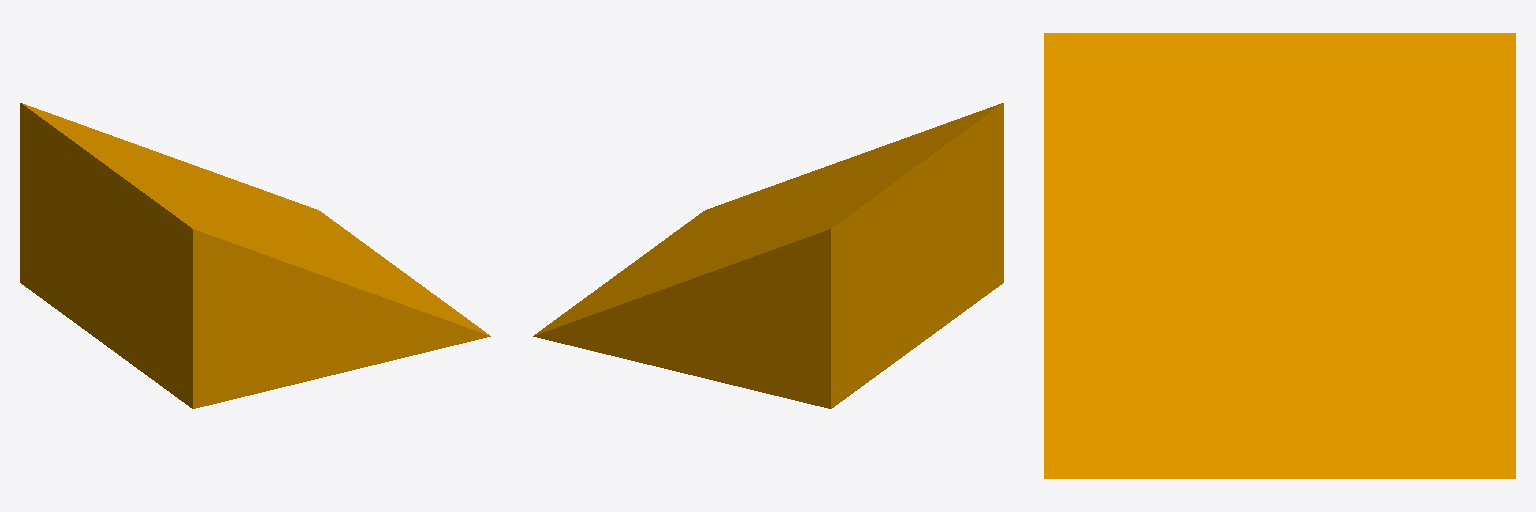
robot.urdf — simple_ramp:
<robot name="simple_ramp">
  <link name="ramp">
    <inertial>
      <mass value="1.0" />
      <!-- center of mass (com) is defined w.r.t. link local coordinate system -->
      <!-- give a little y-offset to make the top precess -->
      <origin xyz="0 0 0" /> 
      <inertia  ixx="1.0" ixy="0.0"  ixz="0.0"  iyy="1.0"  iyz="0.0"  izz="1.0" />
    </inertial>
	<visual>
      <origin rpy="0 0 0" xyz="0 0 0"/>
      <geometry>
         <mesh filename="Ramp.obj" scale="1 1 1"/>
      </geometry>
    </visual>
	<collision>
      <origin rpy="0 0 0" xyz="0 0 0"/>
      <geometry>
         <mesh filename="Ramp.obj" scale="1 1 1"/>
      </geometry>
    </collision>
  </link>
</robot>

--- Render facts (derived) ---
The picture shows the robot from 3 angles, left to right: view 1: azimuth 30°, elevation 25°; view 2: azimuth 150°, elevation 25°; view 3: azimuth 270°, elevation 25°; orthographic projection.
Model simple_ramp with 1 links and 0 joints (none), rooted at ramp, posed all joints at 0.
Links seen in each view (by area): view 1: ramp; view 2: ramp; view 3: ramp.
Boxes of the visible links, x1,y1,x2,y2 form: ramp: (20, 103, 490, 408); ramp: (533, 103, 1003, 408); ramp: (1044, 33, 1515, 478).
Size in the robot's own frame: 10 by 10 by 5.77 metres.
Meshes: 1 distinct files referenced, 1 mesh visuals loaded (1 OBJ).